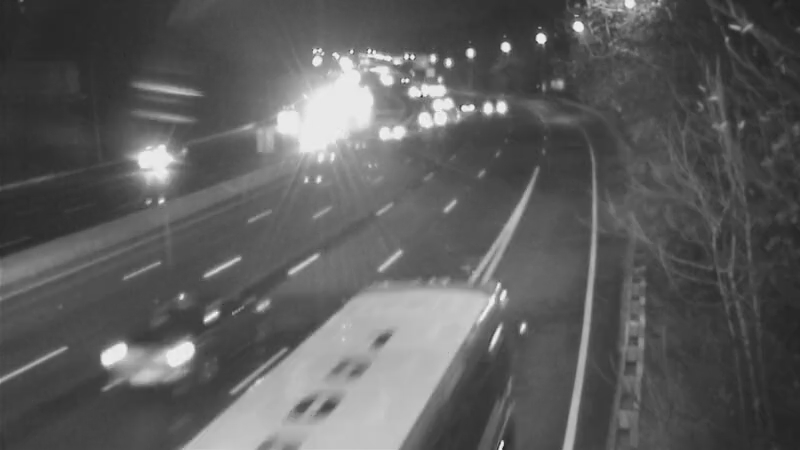vehicle: (87, 304, 197, 414), (98, 95, 208, 205), (292, 342, 402, 450), (414, 80, 464, 130), (474, 81, 524, 131), (401, 95, 451, 145), (372, 103, 422, 153), (260, 96, 310, 146), (285, 114, 335, 164)
